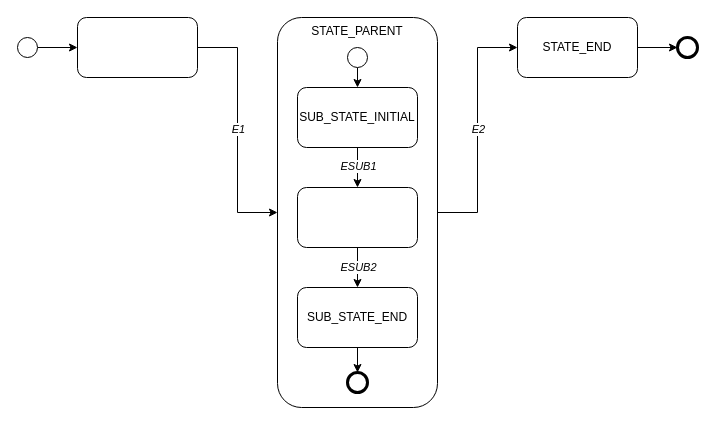
Some shapes in this 716 by 425 pixel diagram are drawn without their labels. The shapes that lost their labels are listed below. From the top down, each one's box as (x1, y1, x2, y2) in pixels, then its label:
(76, 16, 198, 78): STATE_INITIAL
(296, 186, 418, 248): SUB_STATE_2
